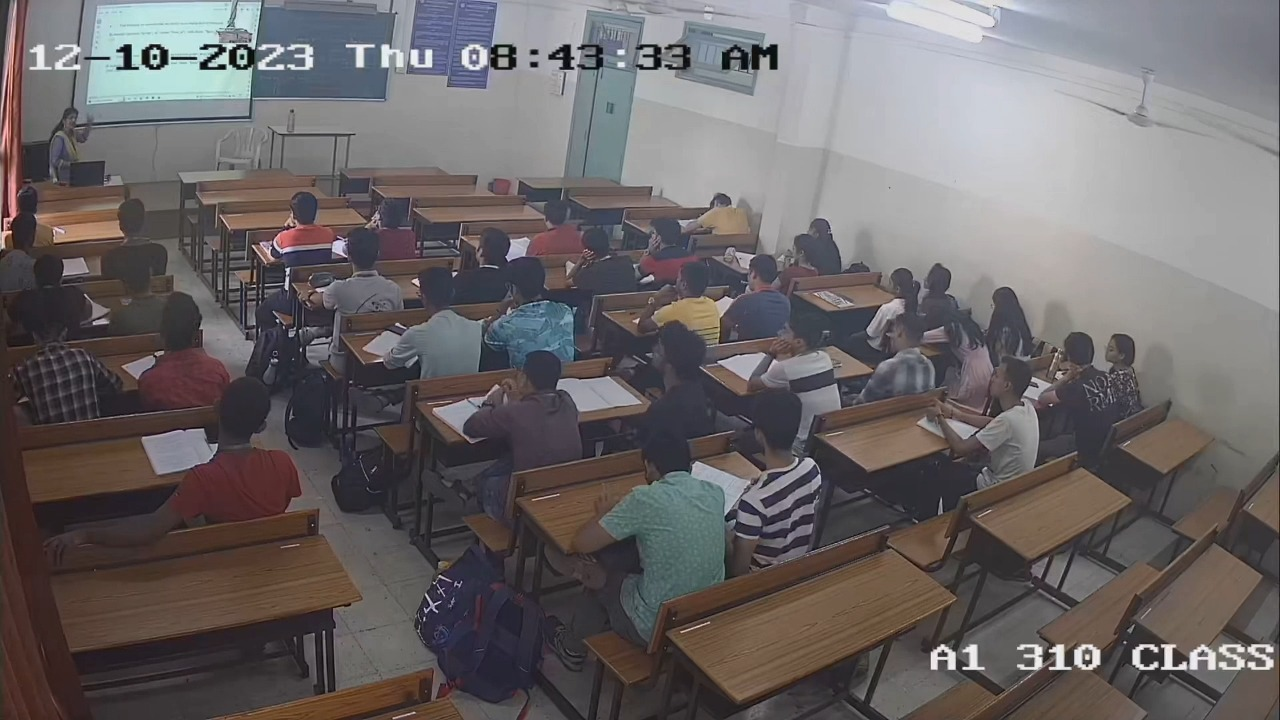cell-phones: (382, 323, 407, 337), (1027, 379, 1041, 390)
person: (385, 266, 482, 372), (1040, 331, 1115, 422)
